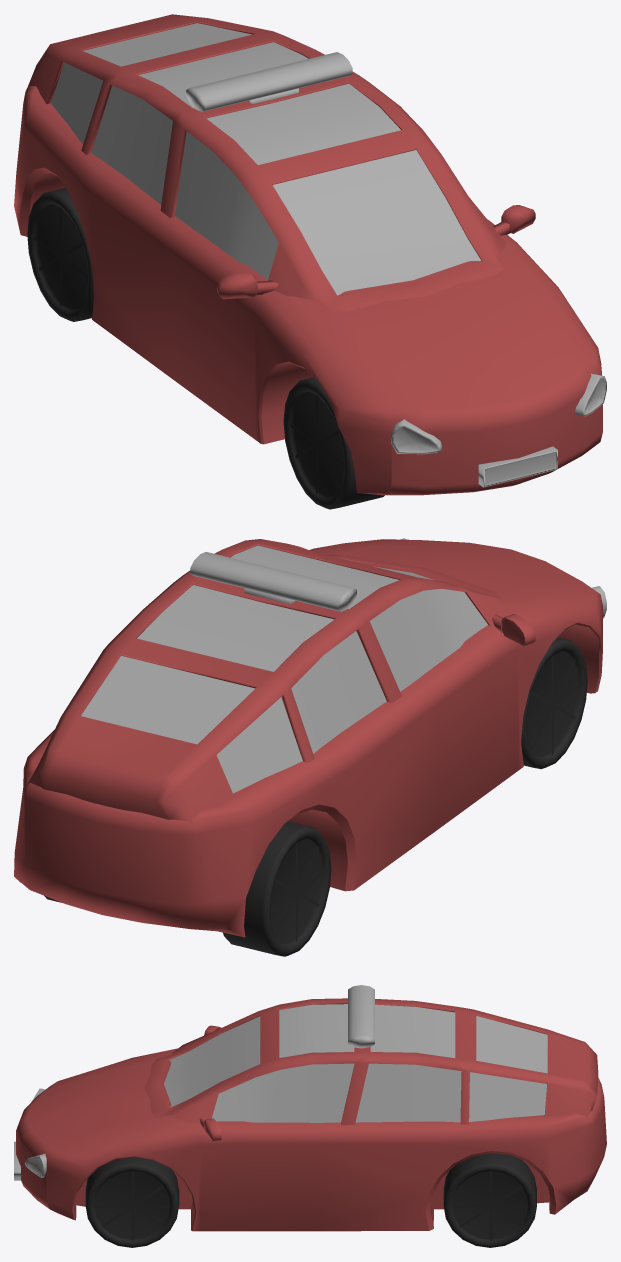
The model's file is PoliceCar.fbx.
The picture shows the model from 3 angles, top to bottom: view 1: azimuth 30°, elevation 25°; view 2: azimuth 150°, elevation 25°; view 3: azimuth 270°, elevation 25°; orthographic projection. The views are drawn at different scales.
Parts seen in each view (by area): view 1: Tesla_Body, Glass, Wheel6, Wheel7, Siren, Lights, Mirrors, Number; view 2: Tesla_Body, Glass, Wheel7, Wheel6, Siren, Mirrors; view 3: Tesla_Body, Glass, Wheel7, Wheel6, Siren, Mirrors, Lights.
Boxes of the visible parts, x1,y1,x2,y2 form: Tesla_Body: (14,14,602,495); Glass: (51,23,481,295); Wheel6: (283,377,384,509); Wheel7: (27,187,94,321); Siren: (186,52,352,111); Lights: (390,373,606,454); Mirrors: (217,205,535,299); Number: (478,446,557,487); Tesla_Body: (14,539,602,937); Glass: (81,545,487,793); Wheel7: (44,821,331,956); Wheel6: (521,637,587,769); Siren: (190,552,356,611); Mirrors: (492,614,535,646); Tesla_Body: (16,998,606,1231); Glass: (164,1004,547,1122); Wheel7: (443,1153,536,1247); Wheel6: (85,1157,179,1247); Siren: (348,985,374,1048); Mirrors: (199,1025,221,1141); Lights: (25,1088,46,1177).
Bounding box in the file's own units: 0.0693 × 0.0595 × 0.161.
